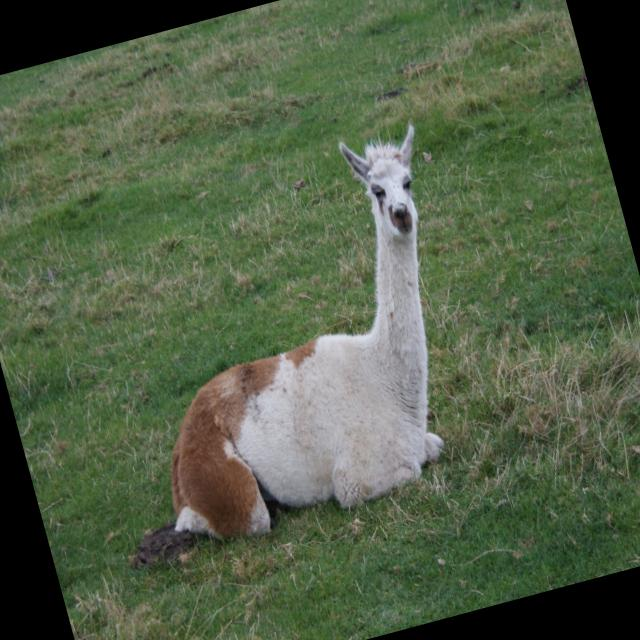alpaca: (96, 125, 506, 554)
